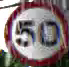Speed limit: (3, 2, 68, 65)
